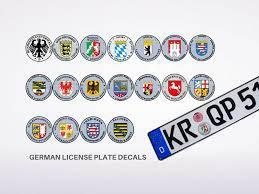5: (236, 86, 257, 111)
K: (162, 124, 184, 150)
P: (219, 97, 237, 120)
Q: (205, 103, 228, 127)
R: (176, 118, 199, 143)
